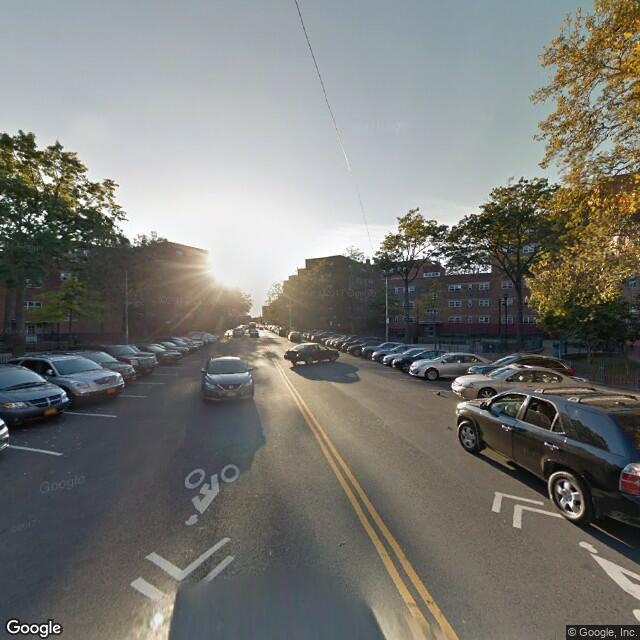litter: (434, 391, 442, 396)
